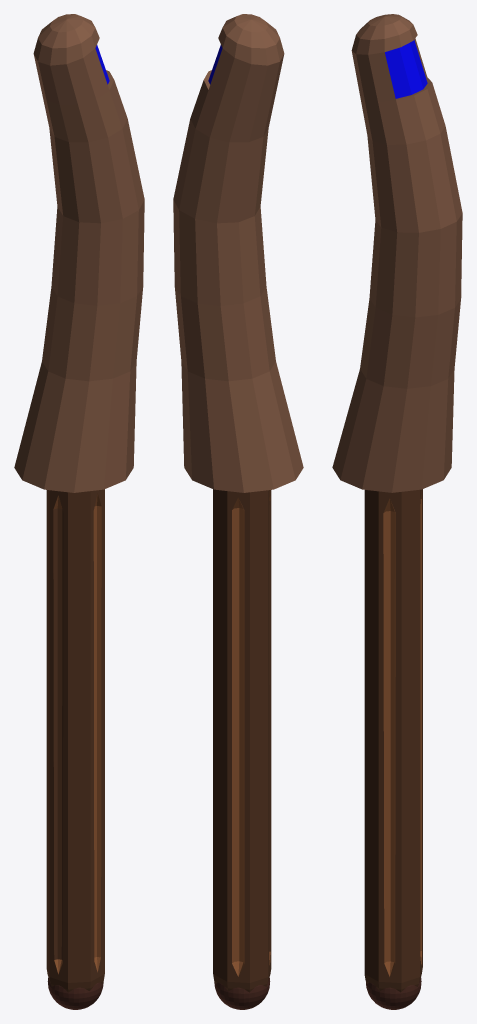
File: Wand 543.glb
The picture shows the model from 3 angles, left to right: view 1: azimuth 30°, elevation 25°; view 2: azimuth 150°, elevation 25°; view 3: azimuth 330°, elevation 25°; orthographic projection.
Visible parts, largest first — view 1: GeneratedWand; view 2: GeneratedWand; view 3: GeneratedWand.
Boxes of the visible parts, x1,y1,x2,y2 form: GeneratedWand: (14, 14, 144, 1009); GeneratedWand: (173, 14, 303, 1009); GeneratedWand: (332, 14, 462, 1009).
Bounding box in the file's own units: 0.0644 × 0.5224 × 0.0572.
